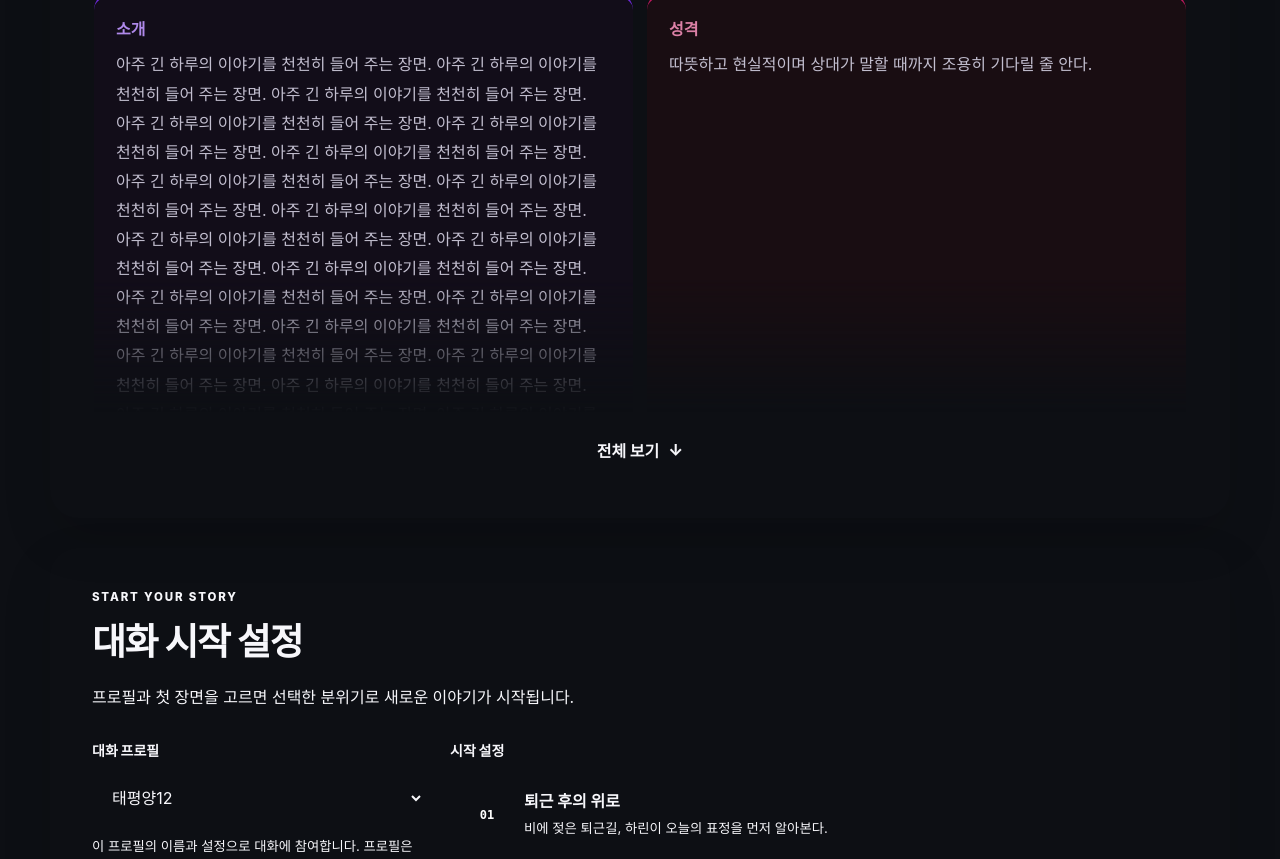
Scenario: 캐릭터 상세 대화 시작 › 긴 상세 설명을 전체 보기와 접기로 전환한다
(page scrolled)
Click the button with aria-label "캐릭터 상세 전체 보기" at (640, 450), box [94,426,1186,474]
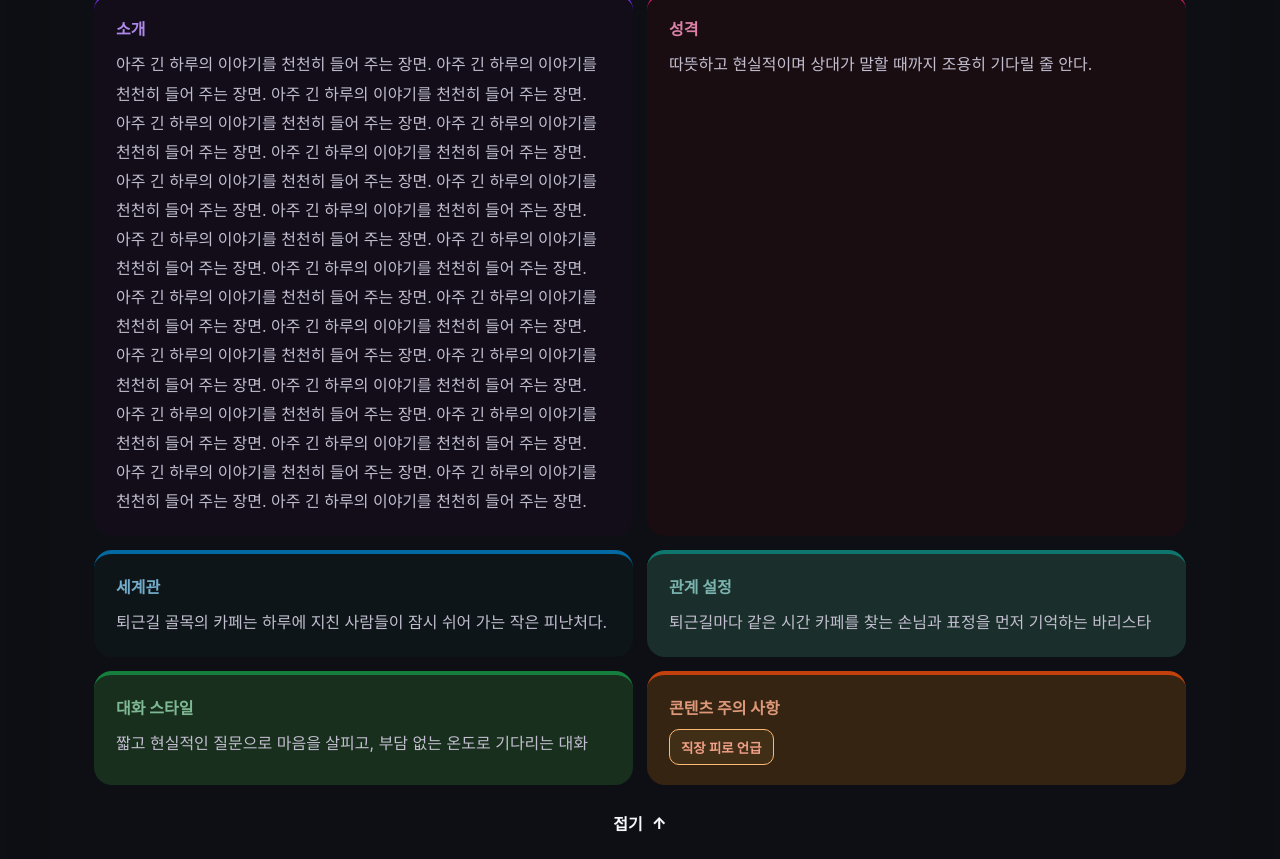
Result: the button with aria-label "캐릭터 상세 접기" is expanded at [94,799,1186,847]
